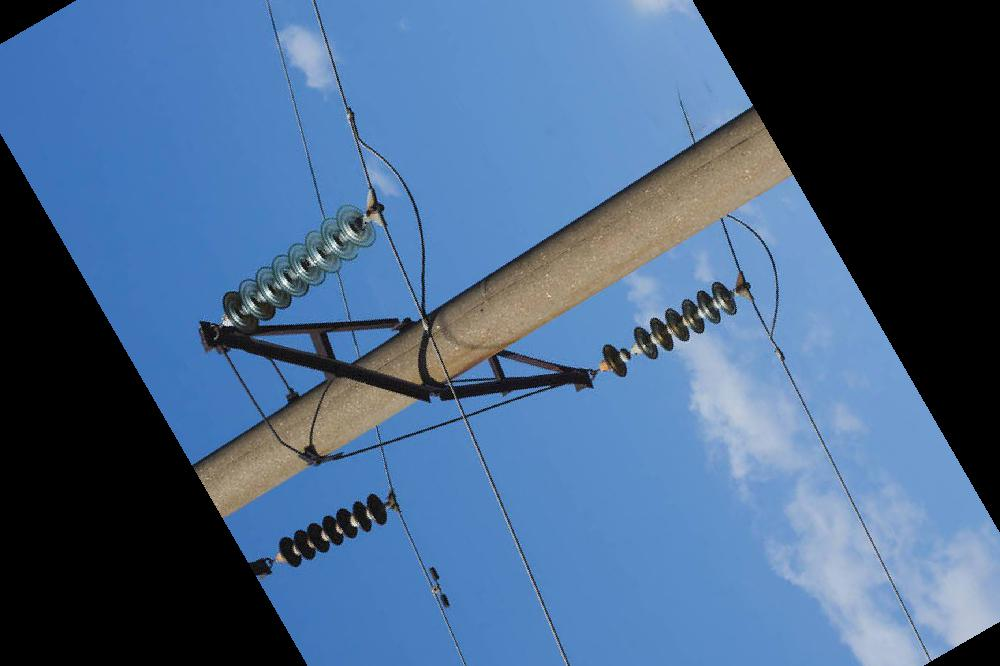insulator: (217, 203, 378, 335), (593, 277, 742, 380), (270, 490, 390, 572)
insulator_stringdrop: (600, 323, 660, 380)
